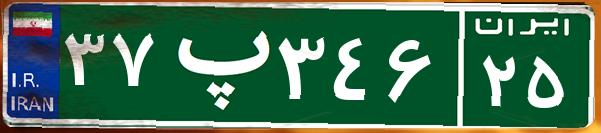2: (475, 38, 525, 113)
3: (273, 28, 330, 110), (57, 26, 110, 107)
4: (330, 28, 385, 110)
5: (525, 38, 570, 115)
6: (385, 28, 445, 110)
7: (110, 28, 158, 105)
پ: (158, 15, 273, 115)
